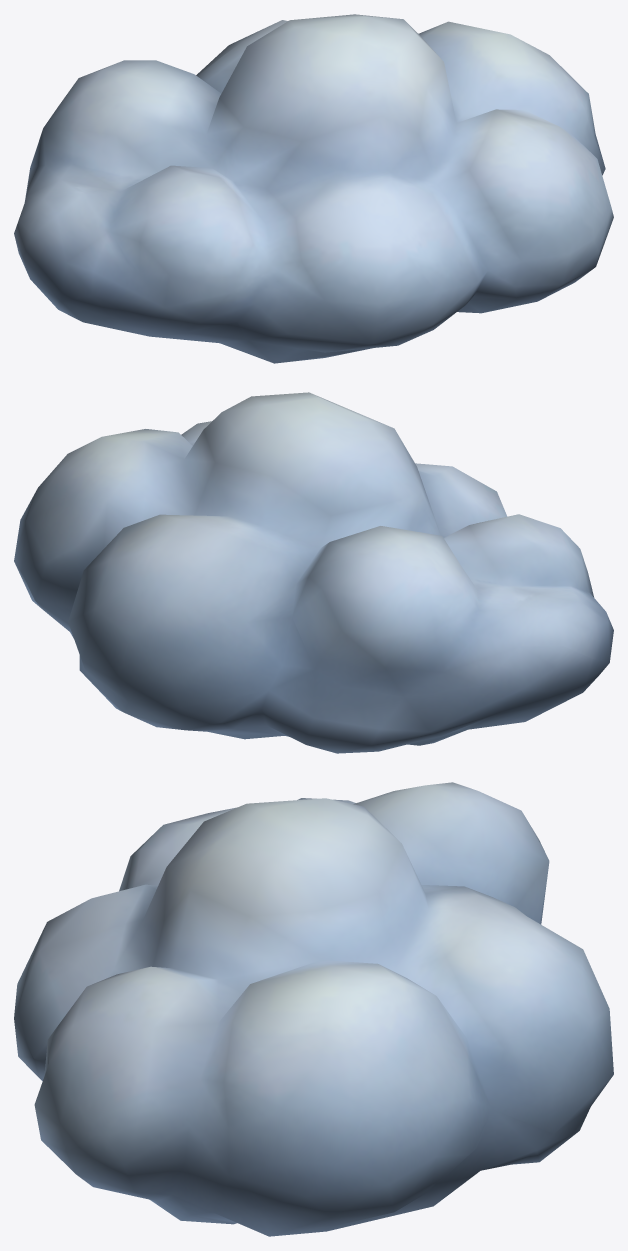
File: HeadTop_0093.FBX
The picture shows the model from 3 angles, top to bottom: view 1: azimuth 30°, elevation 25°; view 2: azimuth 150°, elevation 25°; view 3: azimuth 270°, elevation 25°; orthographic projection. The views are drawn at different scales.
Visible parts, largest first — view 1: HeadTop_0093; view 2: HeadTop_0093; view 3: HeadTop_0093.
Part boxes in pixels (x1,y1,x2,y2): HeadTop_0093: (14,14,613,363); HeadTop_0093: (14,392,613,753); HeadTop_0093: (14,782,613,1236).
Bounding box in the file's own units: 0.9182 × 0.4431 × 0.6955.
